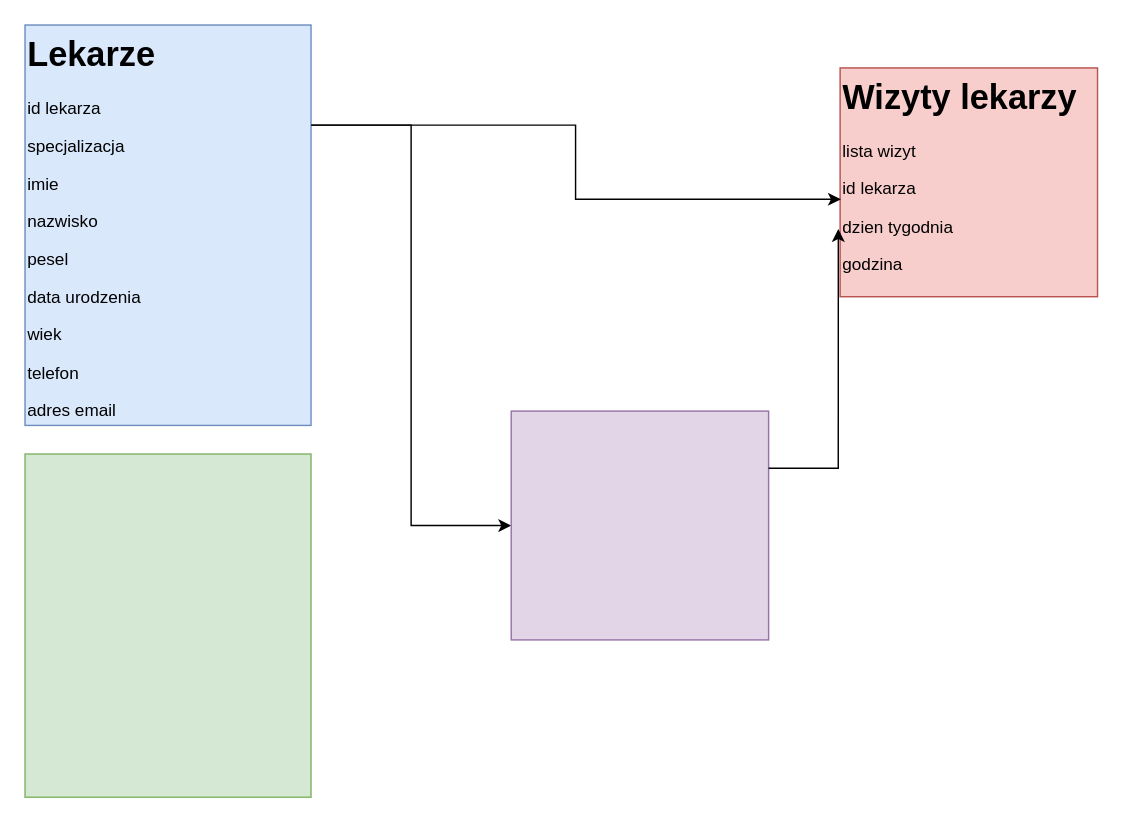
Image size: 1123x827. Some labels were removed from this diagram. Here are the shapes that lost their labels. From the top down, the centre of each, then its label:
pixel 639 525: Grafik lekarzy grafiki lekarzy id lekarza godziny startu godziny zakonczenia
pixel 167 625: Pacjenci imie nazwisko pesel data urodzenia wiek telefon adres email
